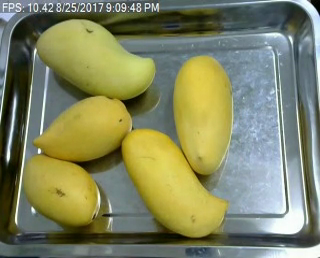Mango: (119, 126, 225, 237), (35, 16, 156, 100), (169, 54, 235, 174), (32, 96, 136, 164), (22, 156, 102, 228)
